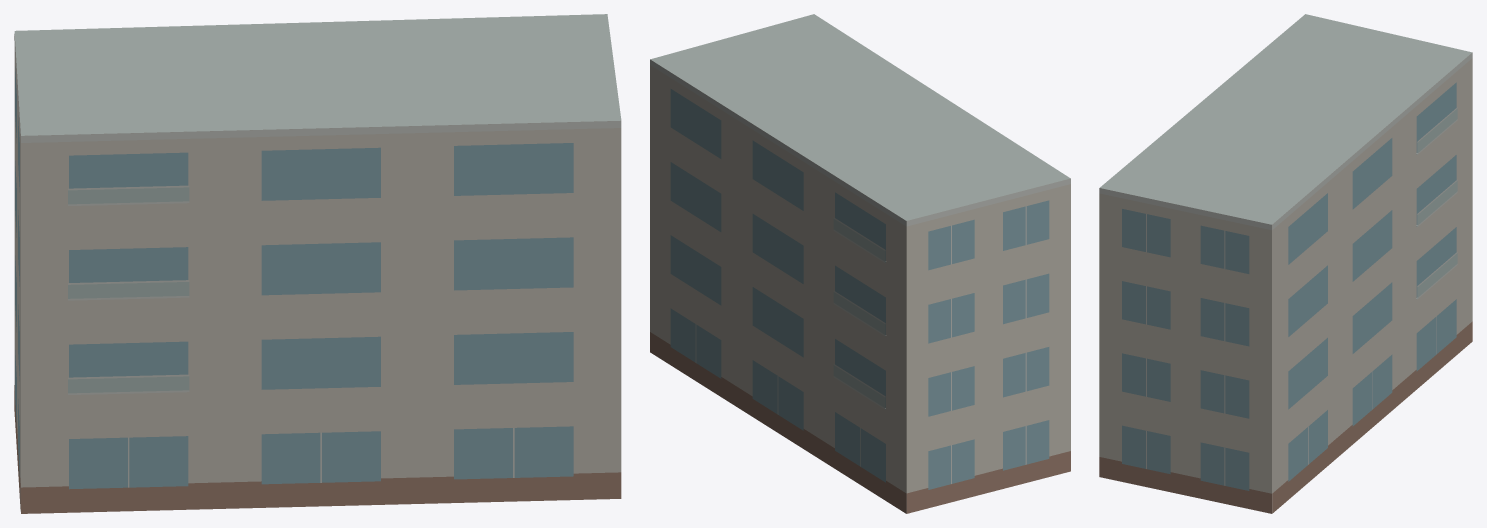
Rendered from survey-upis-32891807.glb.
3 renders of one model, left to right at view 1: azimuth 30°, elevation 25°; view 2: azimuth 150°, elevation 25°; view 3: azimuth 270°, elevation 25°, orthographic. The views are drawn at different scales.
Parts seen in each view (by area): view 1: survey-upis-32891807.tmp; view 2: survey-upis-32891807.tmp; view 3: survey-upis-32891807.tmp.
Part boxes in pixels (x1=…): survey-upis-32891807.tmp: x1=14, y1=14, x2=621, y2=513; survey-upis-32891807.tmp: x1=650, y1=14, x2=1070, y2=513; survey-upis-32891807.tmp: x1=1099, y1=14, x2=1472, y2=513.
Bounding box in the file's own units: 20.02 × 12.8 × 14.98.
